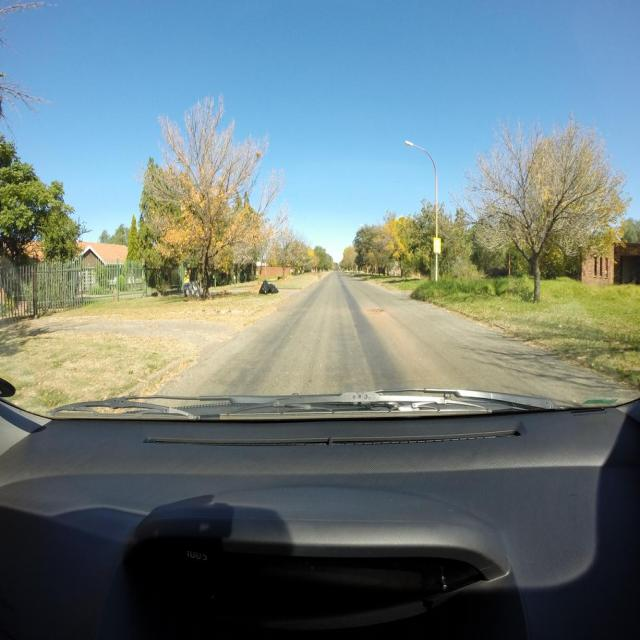Pothole: (368, 309, 385, 313)
